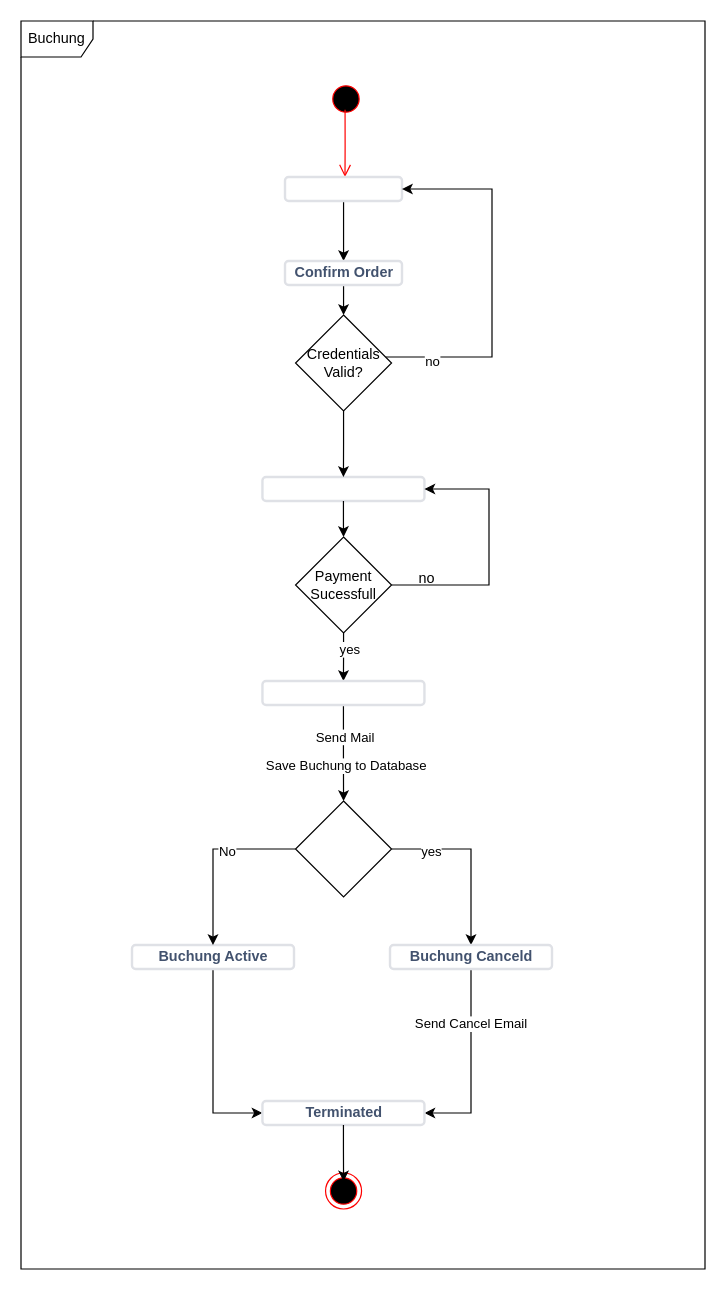
Image size: 726x1290. Some labels were removed from this diagram. Each missing label, with the box of its shape:
Awaiting Data: (283, 175, 403, 202)
Buchung Confirmed: (261, 679, 425, 706)
Start Payment: (261, 475, 425, 502)
User Canceled?: (294, 800, 392, 897)
